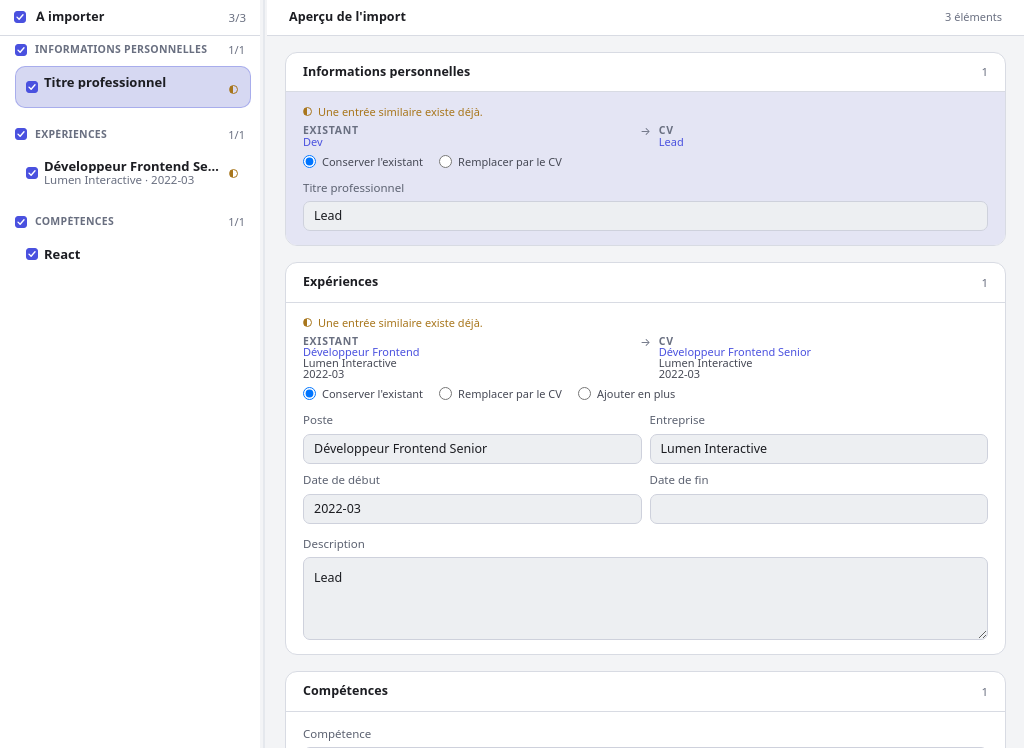
ImportReviewForm › retire de l'aperçu une section ignorée
Step 1. Click the checkbox named "Importer les expériences" → (21, 134), box [15,128,27,140]
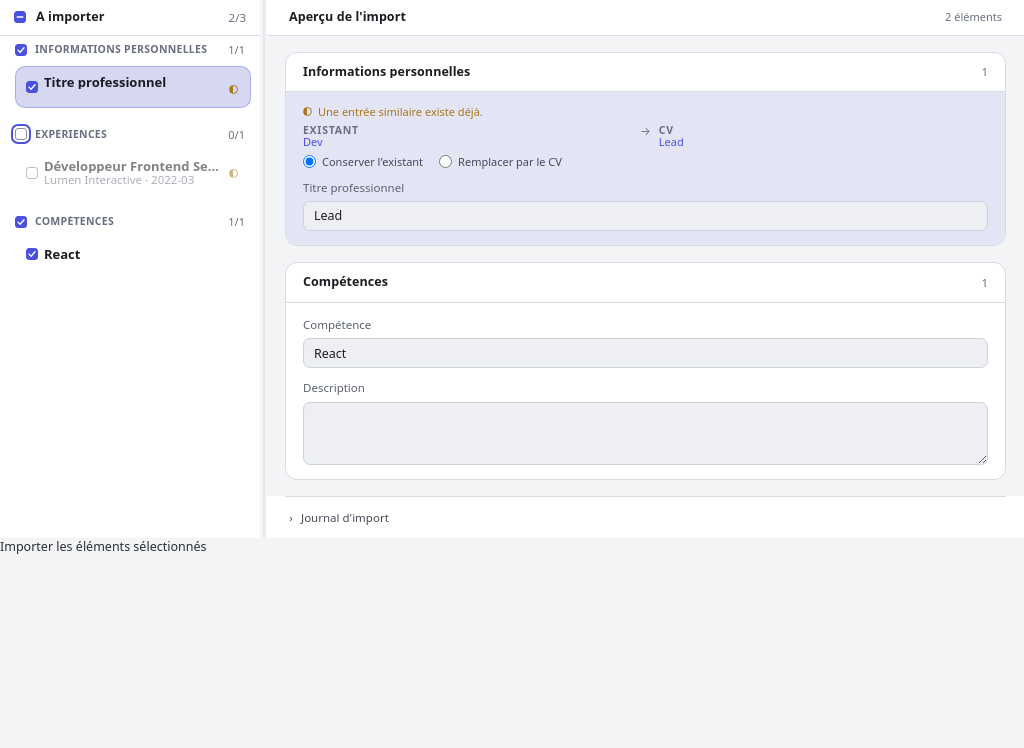
Expected: the field labelled "Titre professionnel" is shown, [303,201,988,231]
Now the checkbox named "Importer Développeur Frontend Senior" is not checked, box [26,167,38,179]
Now the label labelled "Poste" is gone
